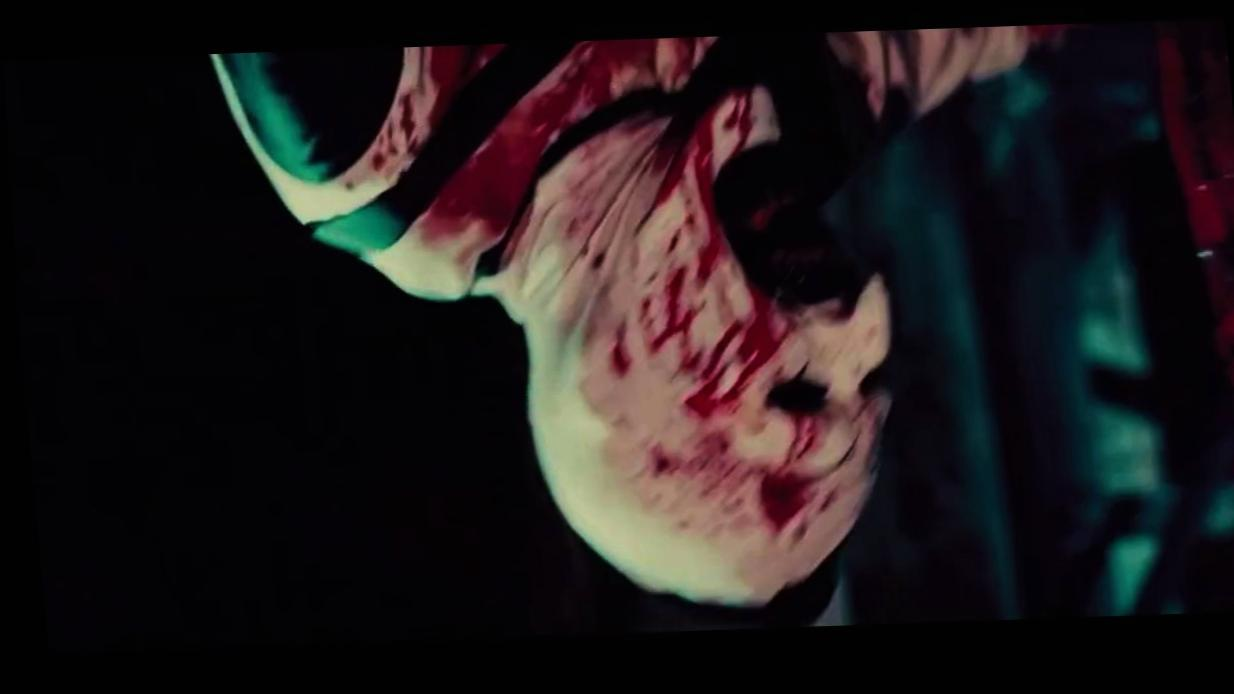Fire: (413, 38, 900, 547), (1157, 37, 1234, 486), (343, 44, 518, 185)
